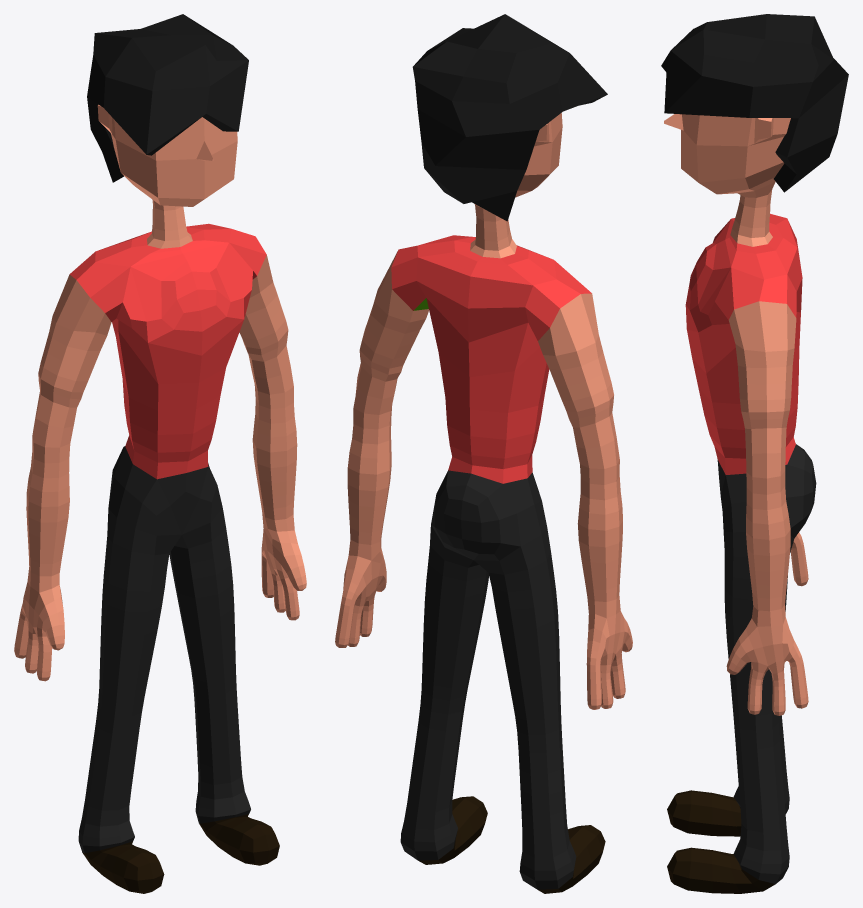
File: npc1.fbx
3 views of the same model, side by side, from view 1: azimuth 30°, elevation 25°; view 2: azimuth 150°, elevation 25°; view 3: azimuth 270°, elevation 25° (orthographic).
Visible parts, largest first — view 1: npc1; view 2: npc1; view 3: npc1.
Part boxes in pixels (x1,y1,x2,y2): npc1: (14, 14, 306, 893); npc1: (335, 14, 632, 893); npc1: (661, 14, 848, 893).
Size of the model in its own units: 106 by 318 by 64.41.
